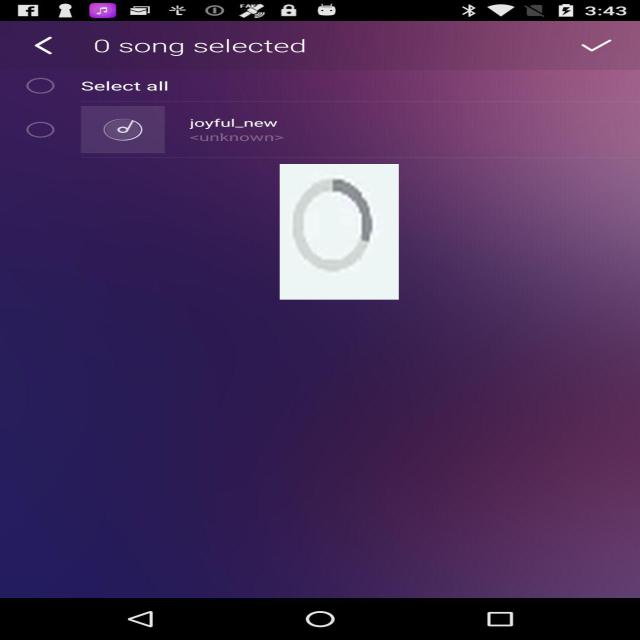misdirection: (280, 164, 399, 300)
